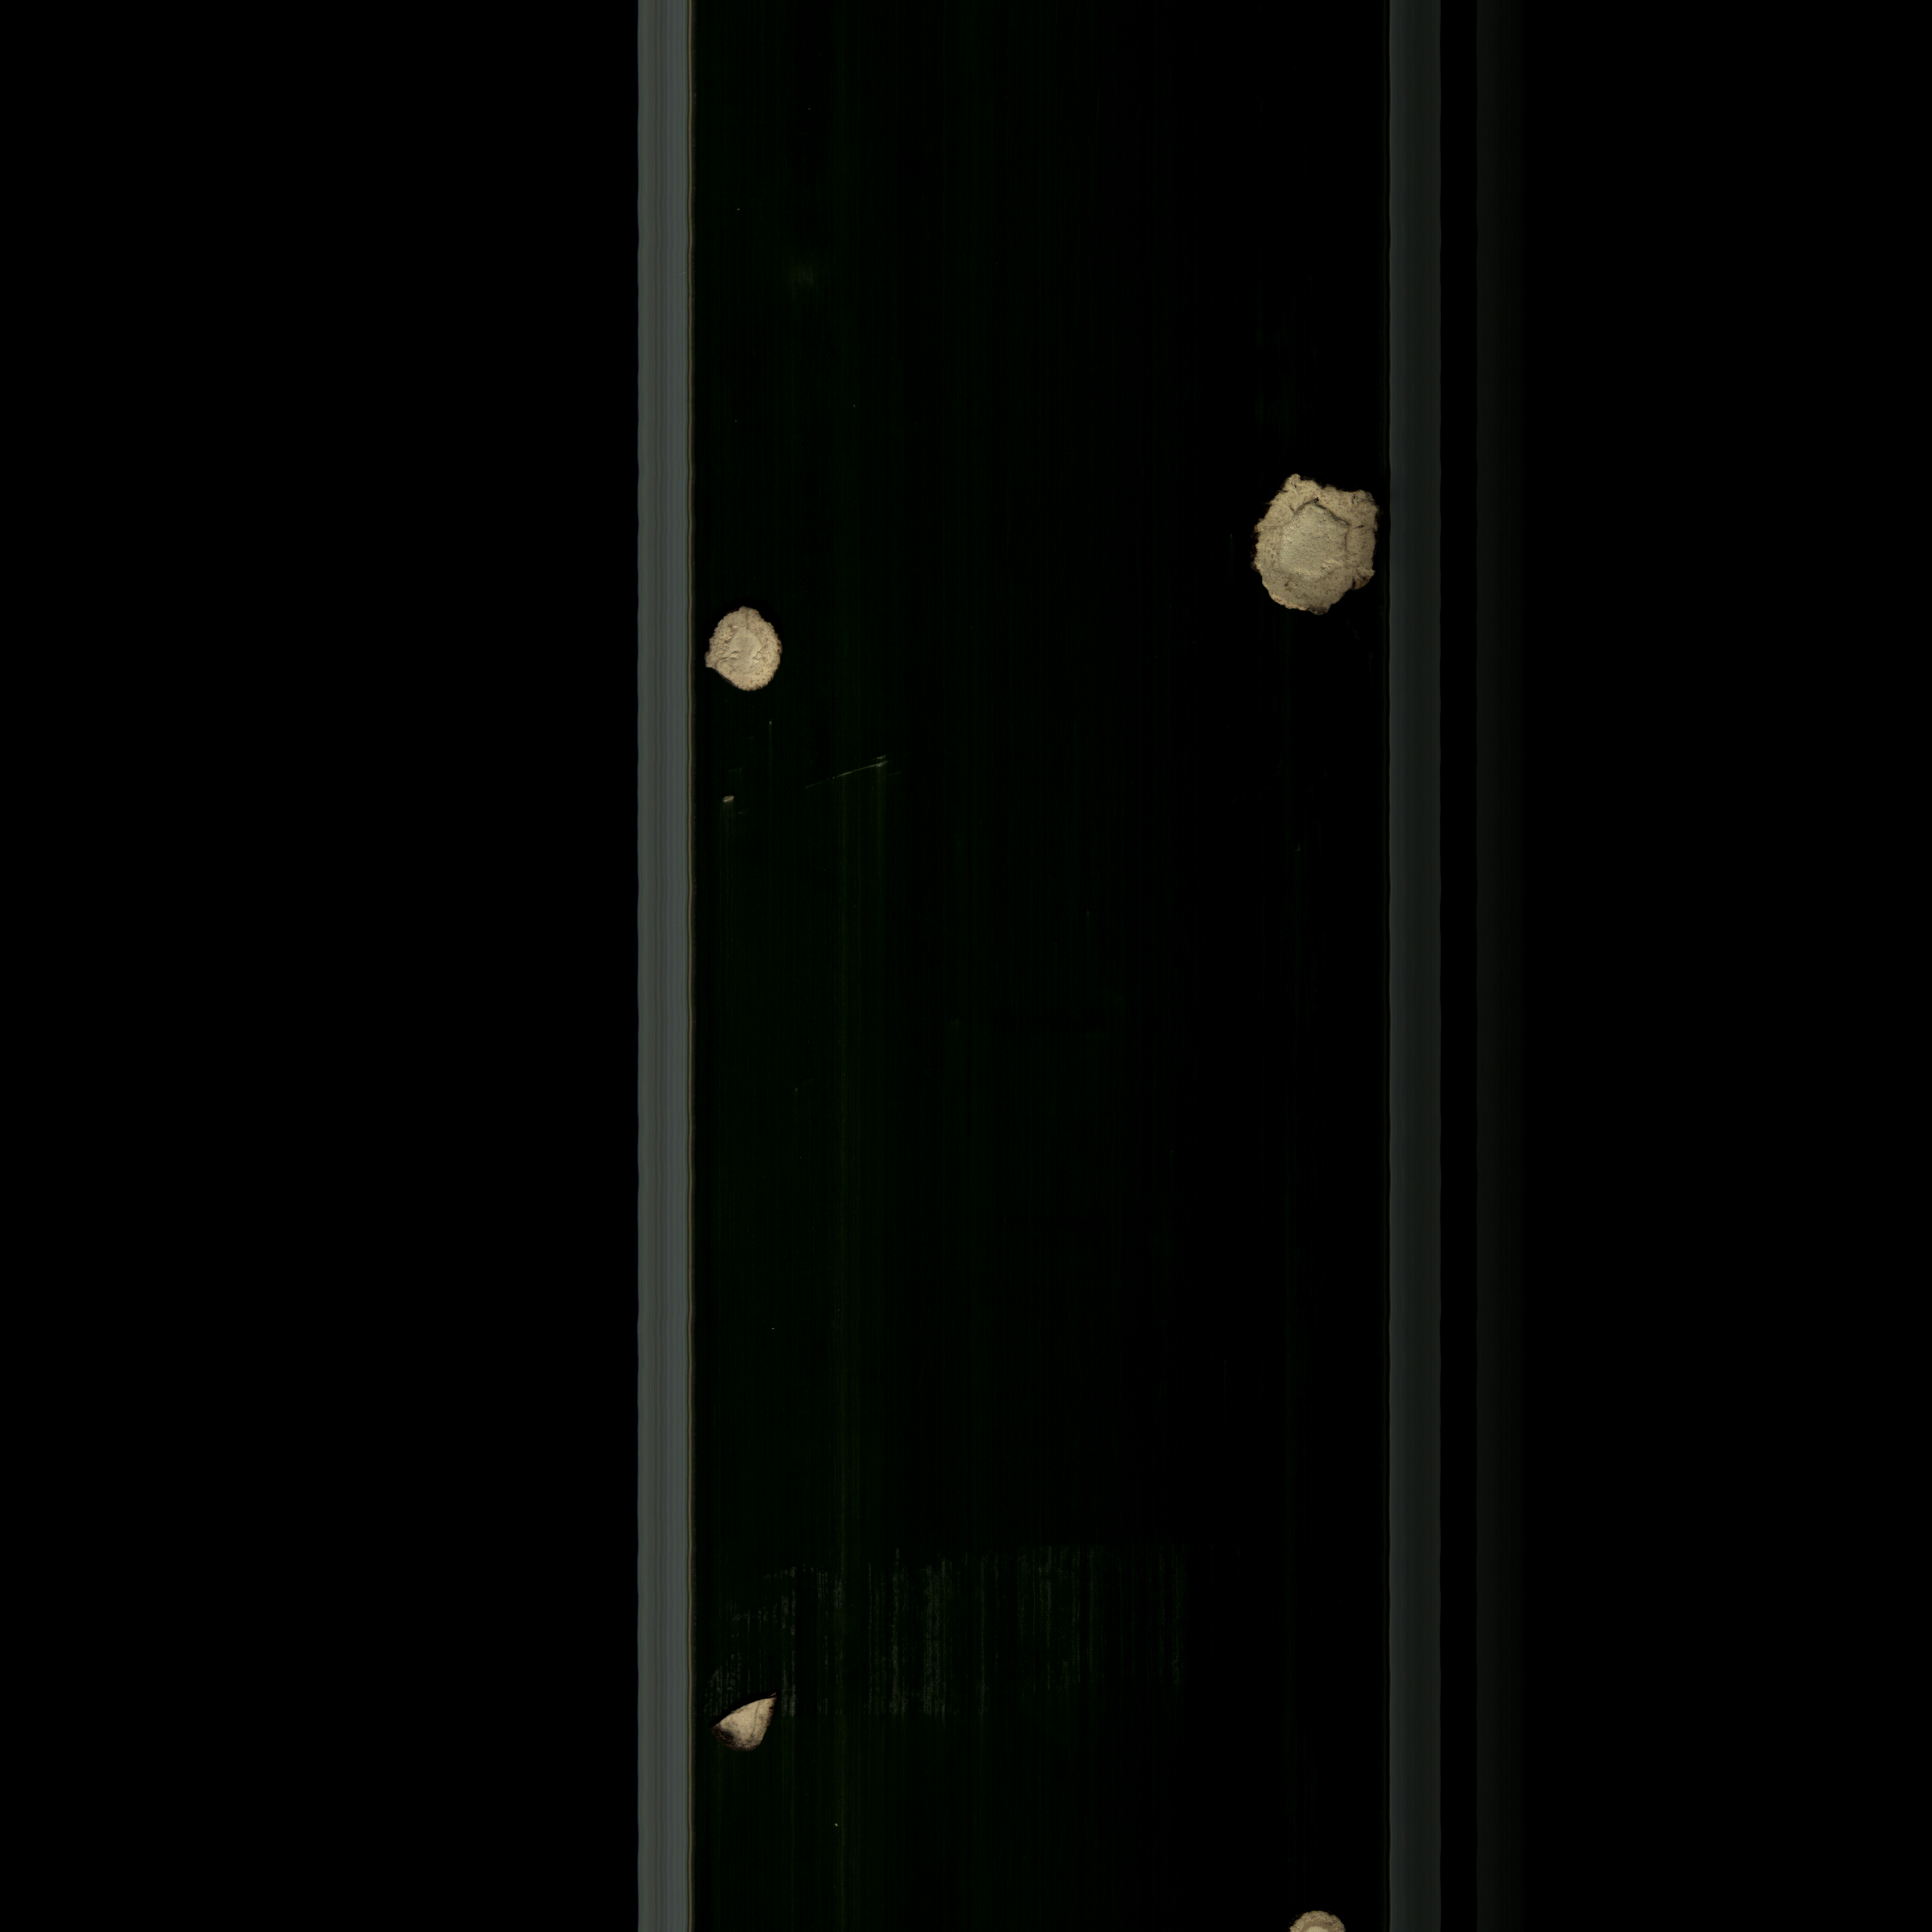distortion: (701, 600, 791, 704)
dreg: (704, 1688, 787, 1755)
moldy: (1242, 464, 1378, 633), (1269, 1895, 1359, 1932)
